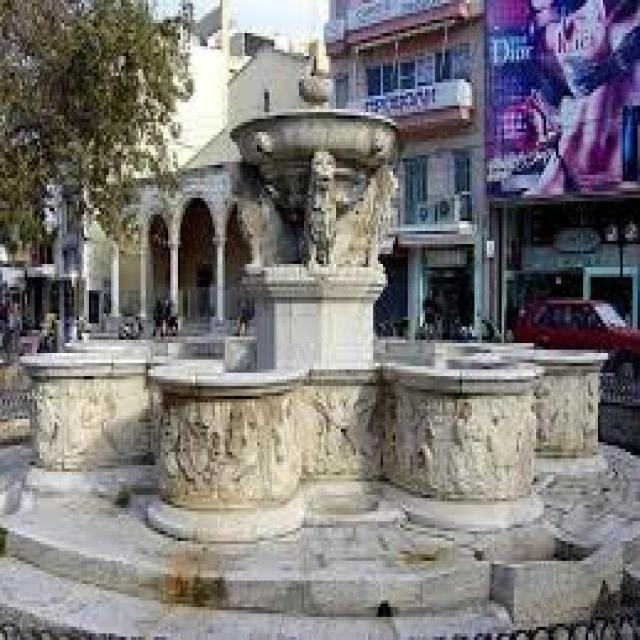Liontaria: (27, 80, 607, 534)
